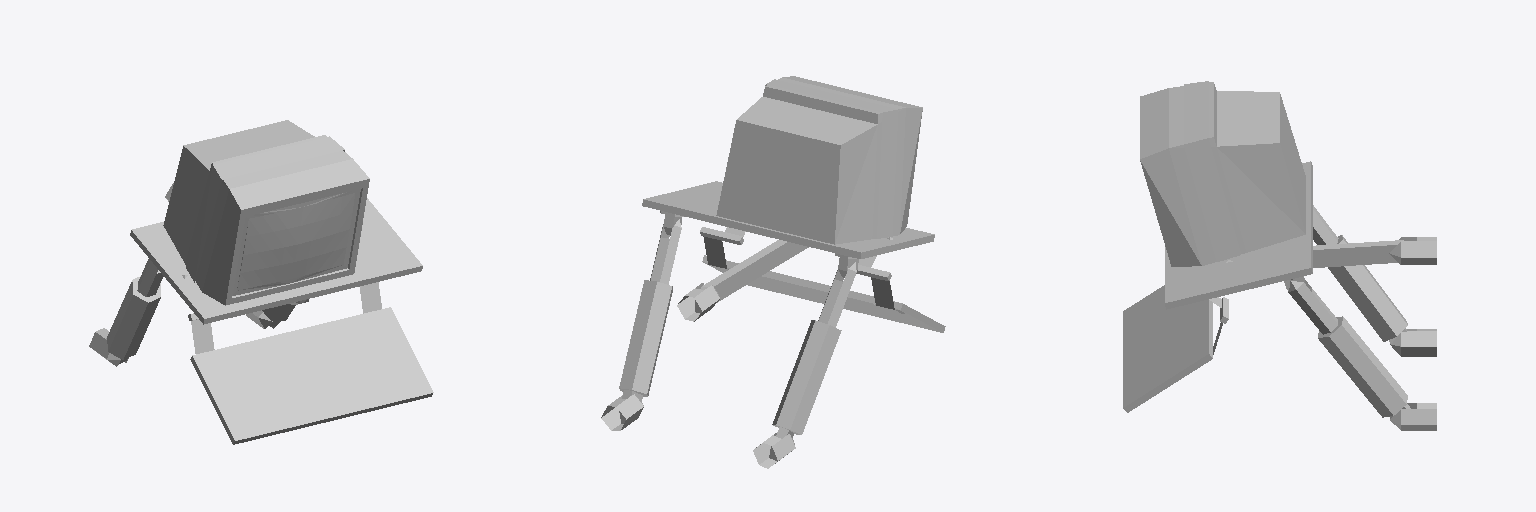
Rendered from mod_test.obj.
3 renders of one model, left to right at view 1: azimuth 30°, elevation 25°; view 2: azimuth 150°, elevation 25°; view 3: azimuth 270°, elevation 25°, orthographic.
Parts seen in each view (by area): view 1: Plane.011_Plane.021, Plane.014_Plane.003, Plane.009_Plane.011, Plane.021_Plane.008, Plane.019_Plane.004, Plane.002, Plane.005, Plane.017_Plane.027, Plane.016_Plane.026; view 2: Plane.014_Plane.003, Plane.009_Plane.011, Plane.002, Plane.007_Plane.014, Plane.011_Plane.021, Plane.019_Plane.004, Plane.012_Plane.018, Plane.005, Plane.004_Plane.013, Plane.008_Plane.015, Plane.013_Plane.019, Plane.001 (+2 smaller); view 3: Plane.014_Plane.003, Plane.011_Plane.021, Plane.009_Plane.011, Plane.019_Plane.004, Plane.007_Plane.014, Plane.002, Plane.012_Plane.018, Plane.004_Plane.013, Plane.013_Plane.019, Plane.001, Plane.008_Plane.015, Plane.005.
Part boxes in pixels (left/top/right/bottom): Plane.011_Plane.021: left=190, top=307, right=433, bottom=444; Plane.014_Plane.003: left=163, top=120, right=369, bottom=305; Plane.009_Plane.011: left=130, top=198, right=422, bottom=324; Plane.021_Plane.008: left=237, top=193, right=354, bottom=290; Plane.019_Plane.004: left=173, top=136, right=344, bottom=284; Plane.002: left=107, top=276, right=160, bottom=363; Plane.005: left=137, top=259, right=163, bottom=296; Plane.017_Plane.027: left=191, top=319, right=214, bottom=353; Plane.016_Plane.026: left=360, top=282, right=381, bottom=313; Plane.014_Plane.003: left=716, top=76, right=922, bottom=244; Plane.009_Plane.011: left=642, top=181, right=934, bottom=258; Plane.002: left=772, top=320, right=841, bottom=438; Plane.007_Plane.014: left=619, top=280, right=672, bottom=401; Plane.011_Plane.021: left=702, top=255, right=945, bottom=332; Plane.019_Plane.004: left=765, top=79, right=900, bottom=241; Plane.012_Plane.018: left=701, top=240, right=808, bottom=302; Plane.005: left=818, top=262, right=856, bottom=327; Plane.004_Plane.013: left=650, top=219, right=681, bottom=284; Plane.008_Plane.015: left=601, top=394, right=643, bottom=430; Plane.013_Plane.019: left=677, top=283, right=719, bottom=321; Plane.001: left=753, top=433, right=795, bottom=468; Plane.014_Plane.003: left=1140, top=82, right=1305, bottom=266; Plane.011_Plane.021: left=1123, top=285, right=1212, bottom=412; Plane.009_Plane.011: left=1165, top=161, right=1312, bottom=309; Plane.019_Plane.004: left=1184, top=81, right=1241, bottom=266; Plane.007_Plane.014: left=1318, top=316, right=1410, bottom=418; Plane.002: left=1328, top=235, right=1407, bottom=343; Plane.012_Plane.018: left=1313, top=240, right=1403, bottom=267; Plane.004_Plane.013: left=1288, top=280, right=1337, bottom=334; Plane.013_Plane.019: left=1389, top=237, right=1436, bottom=264; Plane.001: left=1389, top=329, right=1436, bottom=356; Plane.008_Plane.015: left=1390, top=403, right=1436, bottom=430; Plane.005: left=1313, top=205, right=1338, bottom=244.
Bounding box in the file's own units: 10.67 × 12.74 × 13.25.